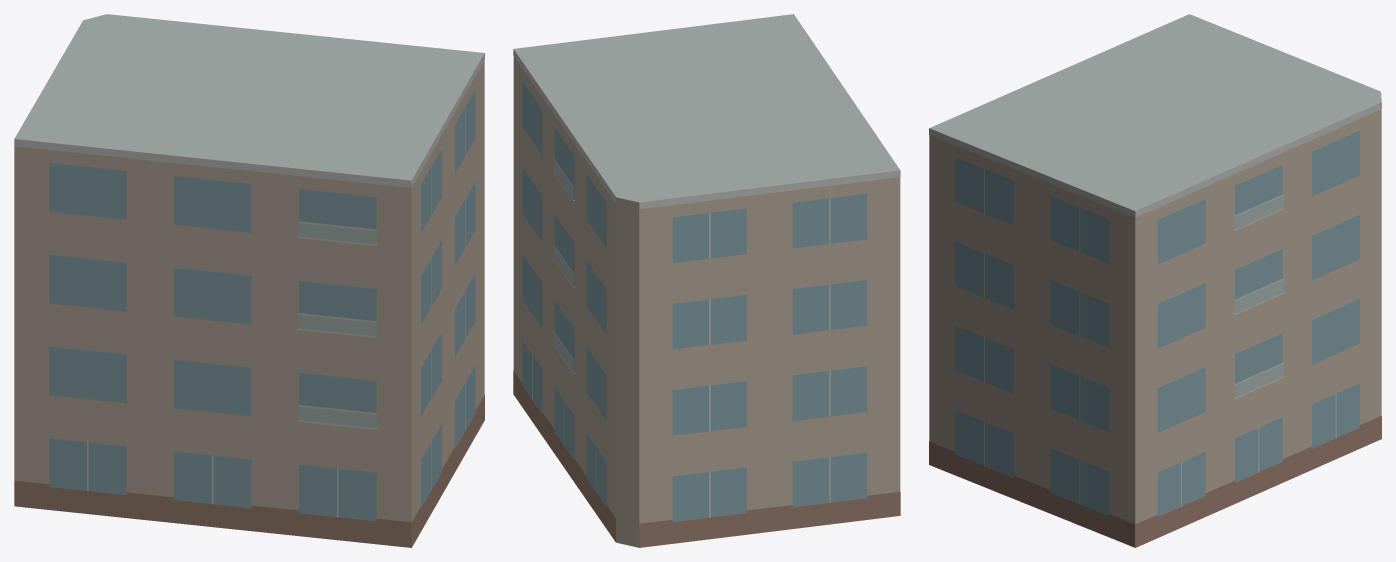
The model's file is survey-upis-32526263.glb.
The picture shows the model from 3 angles, left to right: view 1: azimuth 30°, elevation 25°; view 2: azimuth 150°, elevation 25°; view 3: azimuth 270°, elevation 25°; orthographic projection. The views are drawn at different scales.
Visible parts, largest first — view 1: survey-upis-32526263.tmp; view 2: survey-upis-32526263.tmp; view 3: survey-upis-32526263.tmp.
Boxes of the visible parts, x1,y1,x2,y2 form: survey-upis-32526263.tmp: [14, 14, 484, 547]; survey-upis-32526263.tmp: [513, 14, 900, 547]; survey-upis-32526263.tmp: [929, 14, 1381, 547].
Size of the model in its own units: 15.39 by 12.24 by 14.92.
